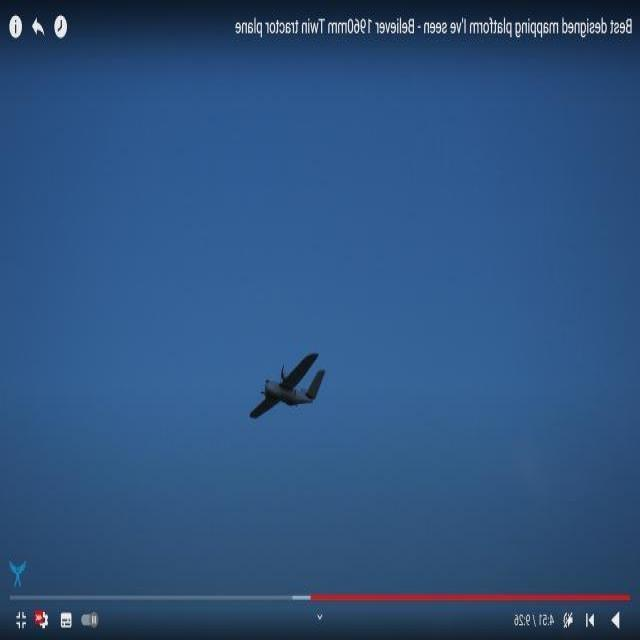Airplane: (244, 344, 330, 426)
